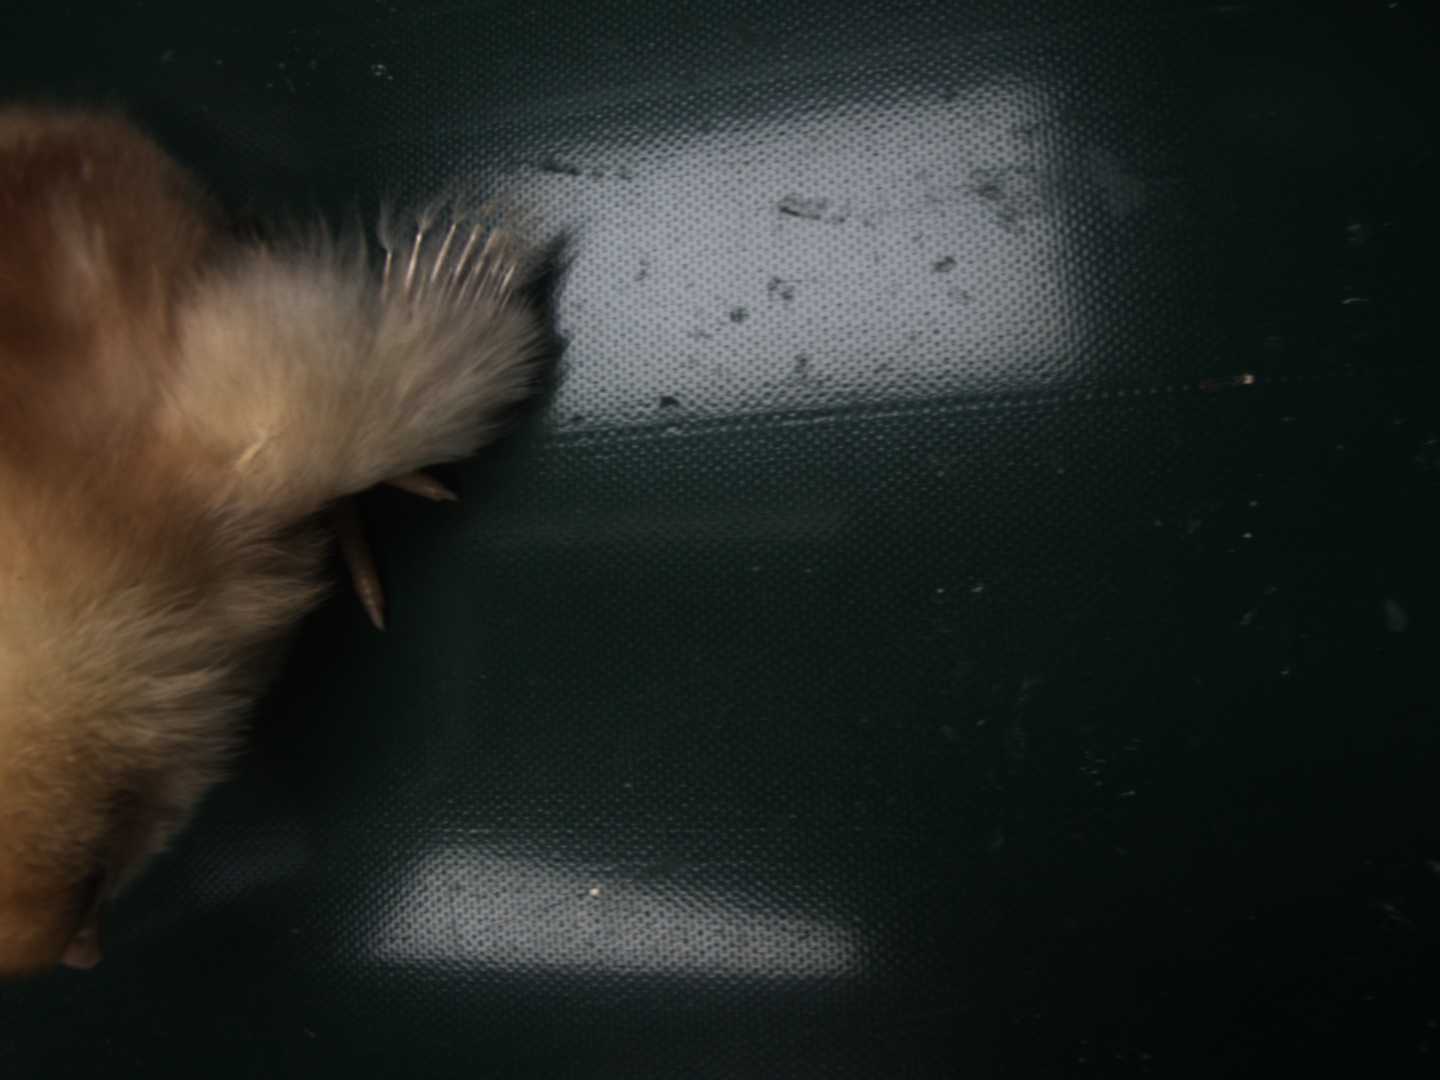female: (376, 222, 522, 323)
